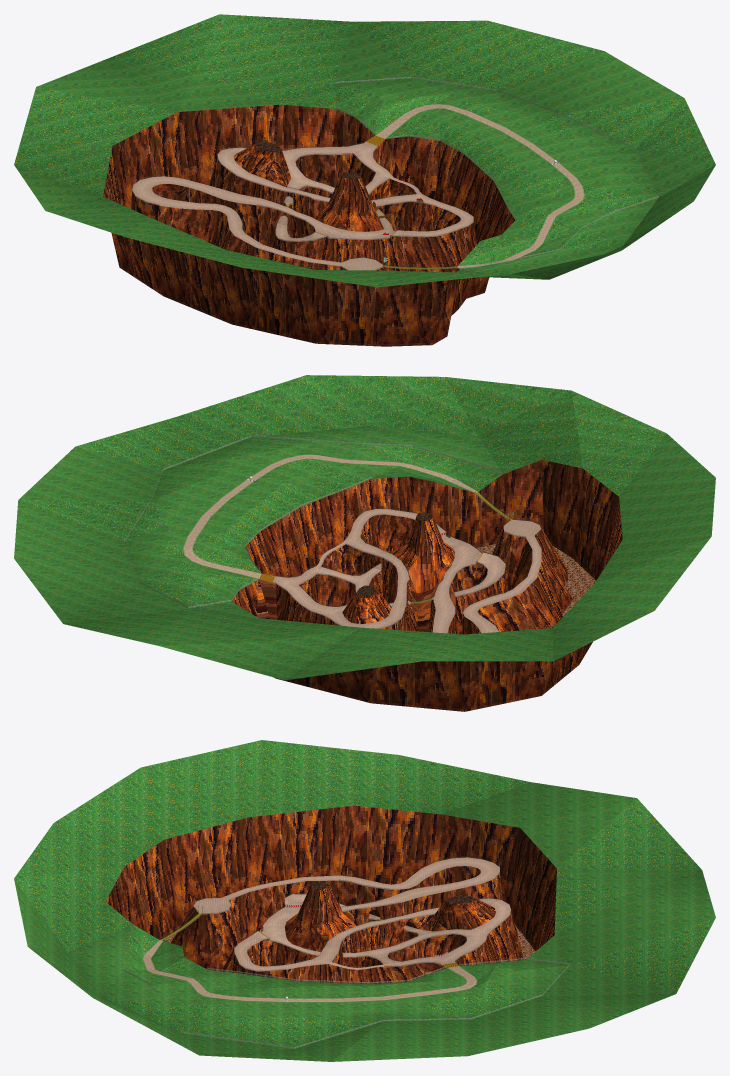
Rendered from level_3.glb.
3 views of the same model, one above another, from view 1: azimuth 30°, elevation 25°; view 2: azimuth 150°, elevation 25°; view 3: azimuth 270°, elevation 25° (orthographic).
Visible parts, largest first — view 1: MARIOKART64 (n64_scene.12).011_N64 Shader 05353200665342f2_0, MARIOKART64 (n64_scene.12).009_N64 Shader ff36a0bfb69e5fe0_0, MARIOKART64 (n64_scene.12).012_N64 Shader 92500f3b8b5947cb_0, MARIOKART64 (n64_scene.12).013_N64 Shader f75189bcd441f84d_0, MARIOKART64 (n64_scene.12).008_N64 Shader c5e10b1a853634f0_0, MARIOKART64 (n64_scene.12).005_N64 Shader 3ddabe578f791ba8_0; view 2: MARIOKART64 (n64_scene.12).011_N64 Shader 05353200665342f2_0, MARIOKART64 (n64_scene.12).009_N64 Shader ff36a0bfb69e5fe0_0, MARIOKART64 (n64_scene.12).012_N64 Shader 92500f3b8b5947cb_0, MARIOKART64 (n64_scene.12).013_N64 Shader f75189bcd441f84d_0, MARIOKART64 (n64_scene.12).010_N64 Shader 6b6ce405c843f268_0, MARIOKART64 (n64_scene.12).005_N64 Shader 3ddabe578f791ba8_0, MARIOKART64 (n64_scene.12).008_N64 Shader c5e10b1a853634f0_0; view 3: MARIOKART64 (n64_scene.12).011_N64 Shader 05353200665342f2_0, MARIOKART64 (n64_scene.12).009_N64 Shader ff36a0bfb69e5fe0_0, MARIOKART64 (n64_scene.12).012_N64 Shader 92500f3b8b5947cb_0, MARIOKART64 (n64_scene.12).013_N64 Shader f75189bcd441f84d_0, MARIOKART64 (n64_scene.12).005_N64 Shader 3ddabe578f791ba8_0, MARIOKART64 (n64_scene.12).008_N64 Shader c5e10b1a853634f0_0, MARIOKART64 (n64_scene.12).010_N64 Shader 6b6ce405c843f268_0.
Part boxes in pixels (box(x1,y1,x2,y2)): MARIOKART64 (n64_scene.12).011_N64 Shader 05353200665342f2_0: box(14, 14, 715, 287); MARIOKART64 (n64_scene.12).009_N64 Shader ff36a0bfb69e5fe0_0: box(103, 104, 515, 346); MARIOKART64 (n64_scene.12).012_N64 Shader 92500f3b8b5947cb_0: box(132, 141, 473, 270); MARIOKART64 (n64_scene.12).013_N64 Shader f75189bcd441f84d_0: box(375, 104, 584, 267); MARIOKART64 (n64_scene.12).008_N64 Shader c5e10b1a853634f0_0: box(132, 141, 473, 270); MARIOKART64 (n64_scene.12).005_N64 Shader 3ddabe578f791ba8_0: box(334, 77, 658, 269); MARIOKART64 (n64_scene.12).011_N64 Shader 05353200665342f2_0: box(14, 375, 715, 680); MARIOKART64 (n64_scene.12).009_N64 Shader ff36a0bfb69e5fe0_0: box(232, 460, 622, 711); MARIOKART64 (n64_scene.12).012_N64 Shader 92500f3b8b5947cb_0: box(273, 509, 541, 633); MARIOKART64 (n64_scene.12).013_N64 Shader f75189bcd441f84d_0: box(183, 454, 477, 578); MARIOKART64 (n64_scene.12).010_N64 Shader 6b6ce405c843f268_0: box(356, 512, 595, 616); MARIOKART64 (n64_scene.12).005_N64 Shader 3ddabe578f791ba8_0: box(124, 435, 502, 608); MARIOKART64 (n64_scene.12).008_N64 Shader c5e10b1a853634f0_0: box(272, 508, 541, 628); MARIOKART64 (n64_scene.12).011_N64 Shader 05353200665342f2_0: box(14, 740, 715, 1061); MARIOKART64 (n64_scene.12).009_N64 Shader ff36a0bfb69e5fe0_0: box(105, 805, 556, 983); MARIOKART64 (n64_scene.12).012_N64 Shader 92500f3b8b5947cb_0: box(193, 857, 511, 971); MARIOKART64 (n64_scene.12).013_N64 Shader f75189bcd441f84d_0: box(142, 940, 477, 1002); MARIOKART64 (n64_scene.12).005_N64 Shader 3ddabe578f791ba8_0: box(122, 923, 570, 1048); MARIOKART64 (n64_scene.12).008_N64 Shader c5e10b1a853634f0_0: box(153, 856, 511, 971); MARIOKART64 (n64_scene.12).010_N64 Shader 6b6ce405c843f268_0: box(163, 882, 535, 959).
Size of the model in its own units: 471 by 84.54 by 471.
Materials: 16 (15 with a texture image).
